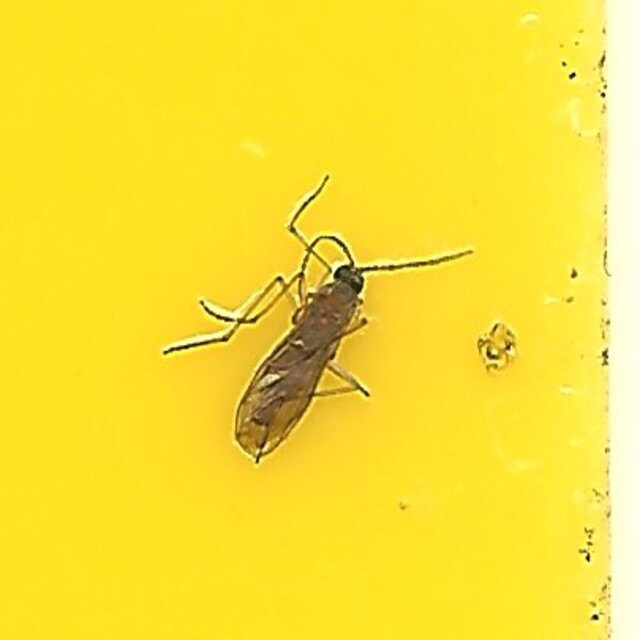Nematocera: (158, 182, 482, 458)
